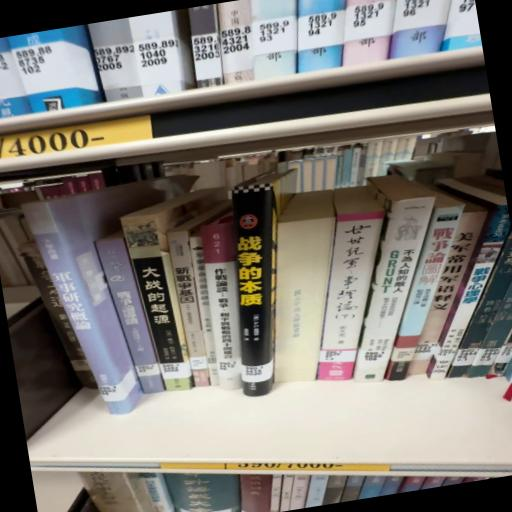backward: (275, 190, 335, 383)
book: (214, 188, 307, 402), (94, 231, 167, 400)
